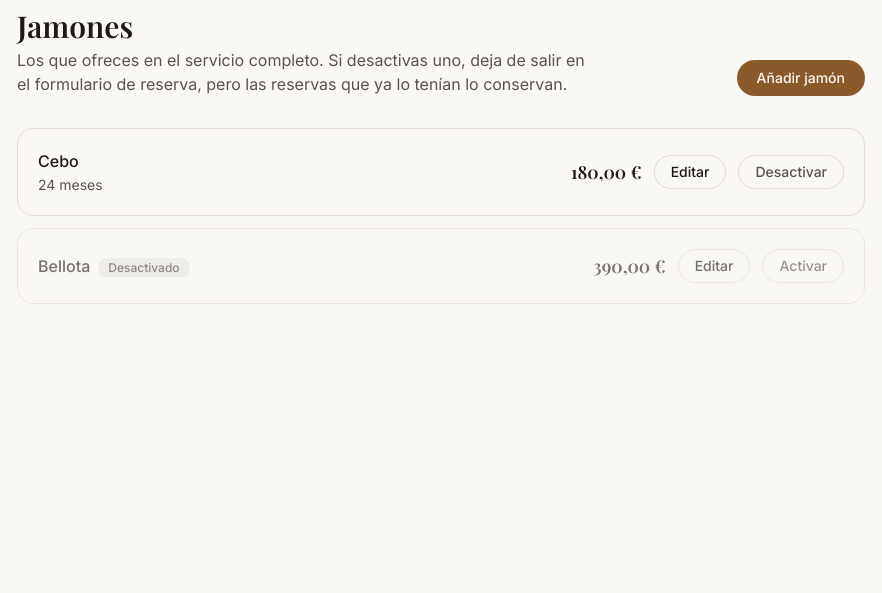
Test: AdminHamTypes › añadir un jamón lo envía al backend y lo muestra en la lista
The width and height of the screenshot is (882, 593).
Click the button "Añadir jamón" at (801, 78), box [737, 60, 865, 96]
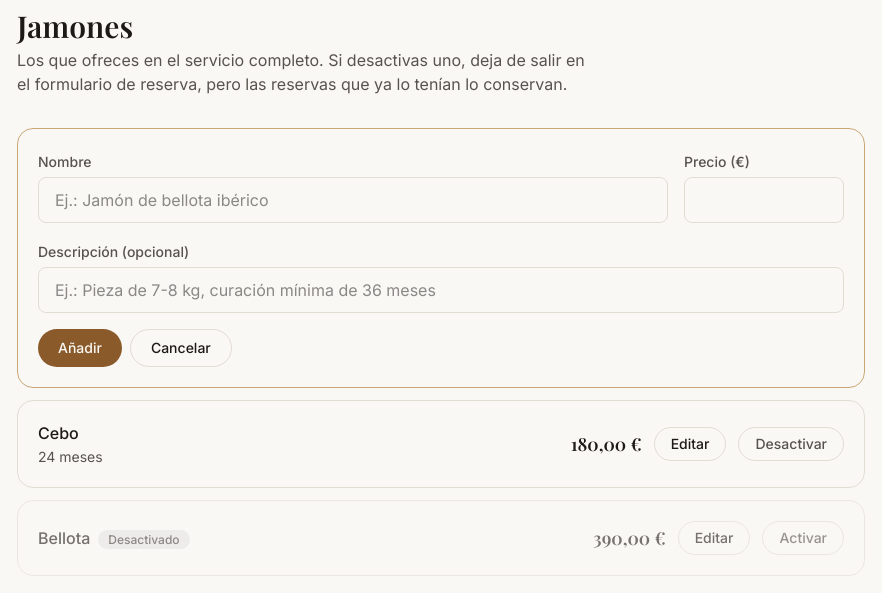
Type "Cebo de campo" into the field labelled "Nombre" at (353, 200), box [38, 177, 668, 223]
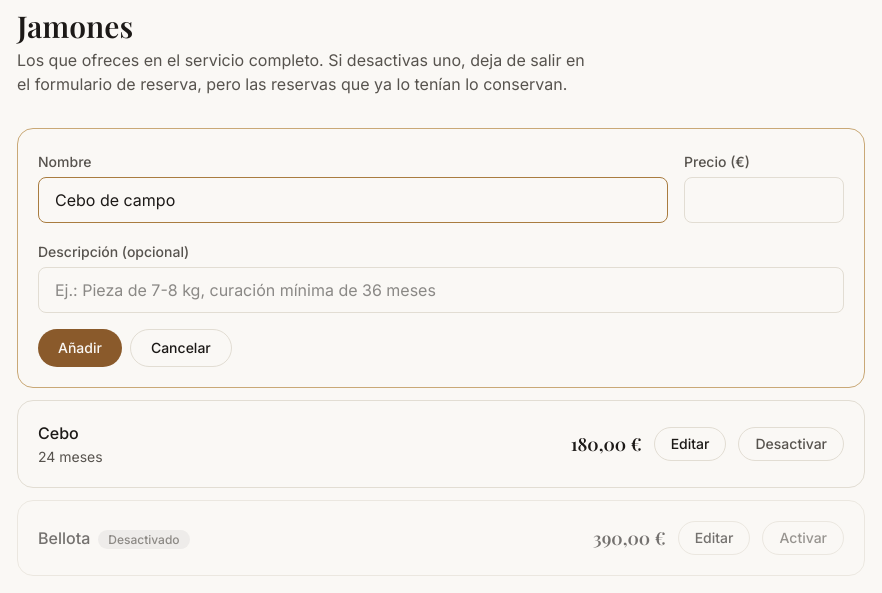
Type "260" into the number field labelled "Precio (€)" at (764, 200), box [684, 177, 844, 223]
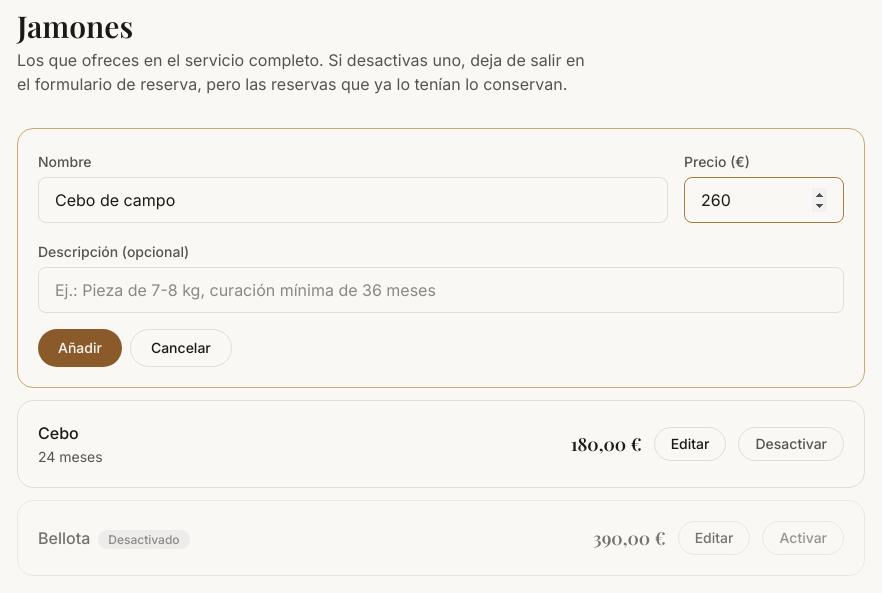
Click the button "Añadir" at (80, 348), box [38, 329, 122, 367]
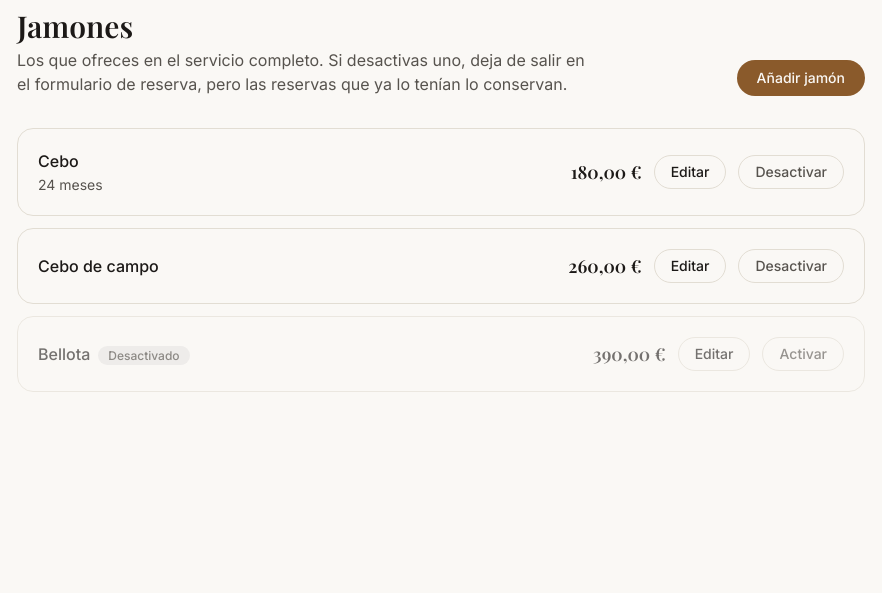
Check: the text "Cebo de campo" is shown, box [38, 254, 159, 278]
